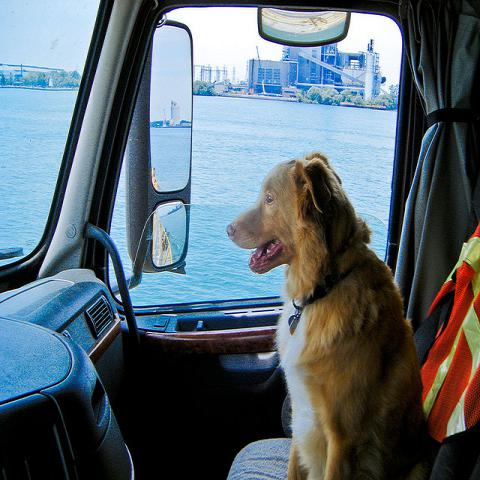truck: (196, 320, 204, 331)
